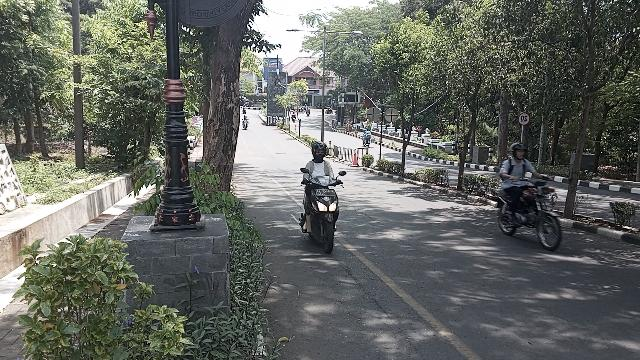helm: (313, 143, 330, 160), (511, 144, 527, 160)
motor: (492, 180, 564, 255), (300, 178, 345, 256)
